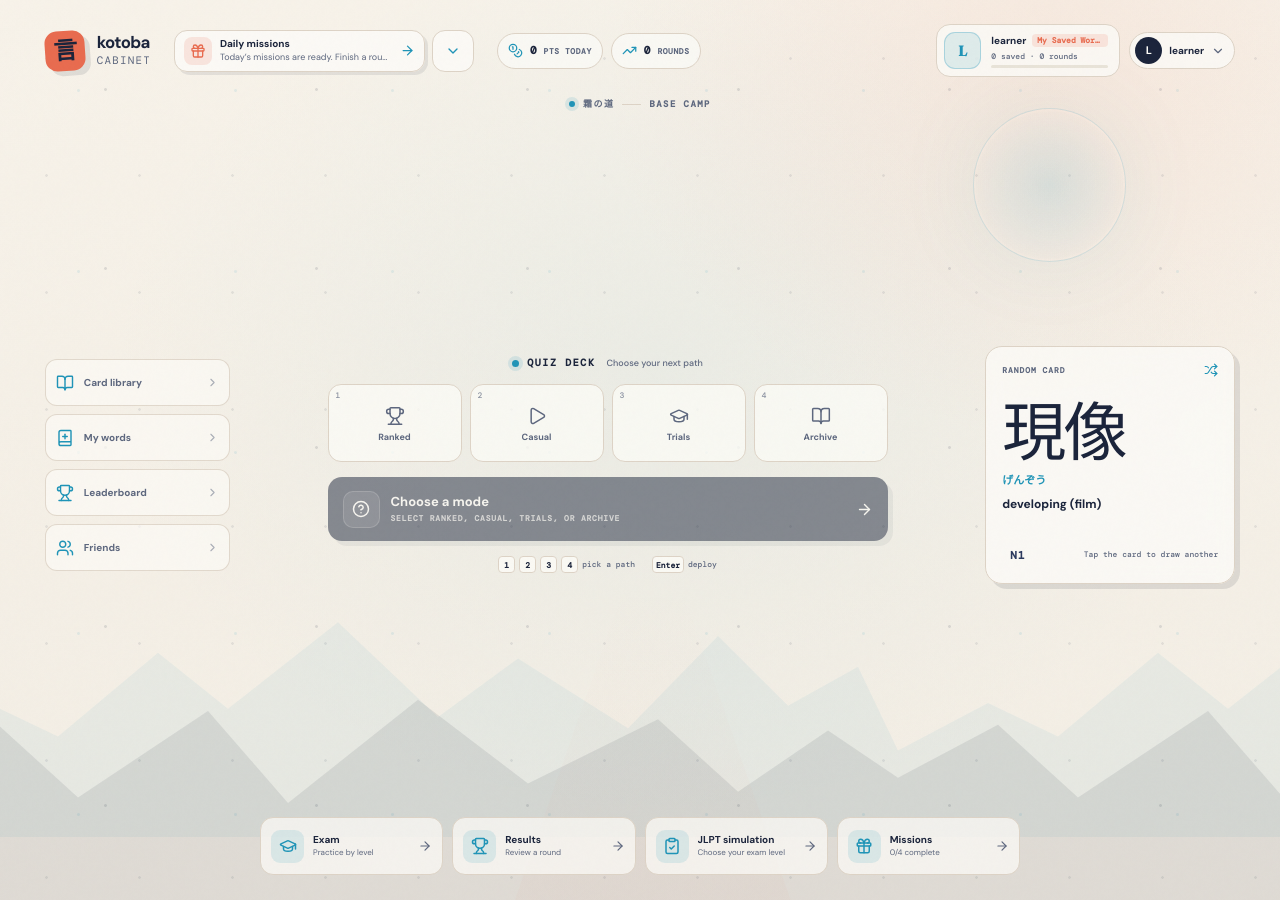
it: Winter Archive lobby › opens the shared menu from the header without a desktop-hidden wrapper and reaches My words
Click the button with test id "button-home-menu" at (65, 51), box x1=44 y1=29 x2=86 y2=72
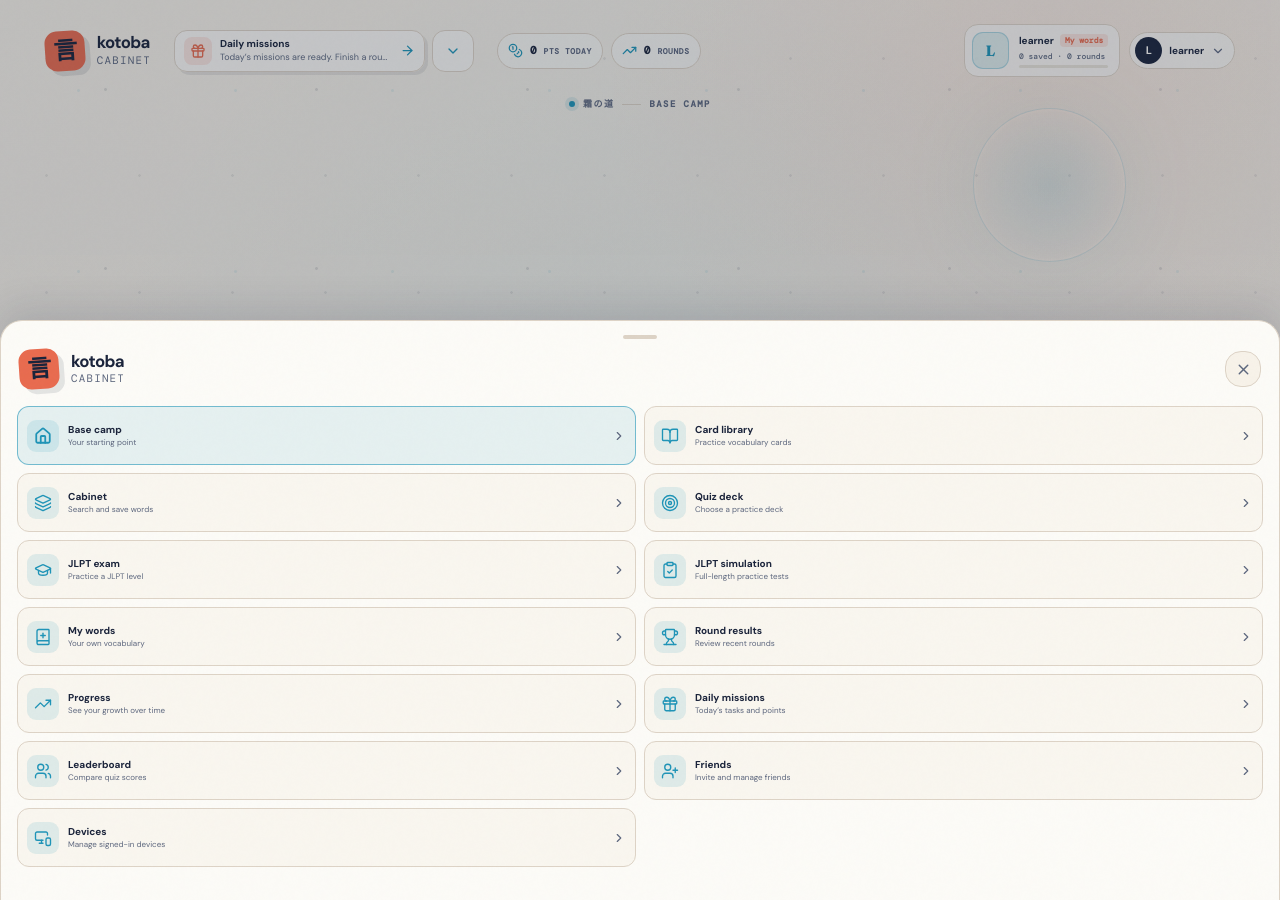
Check: the button with test id "button-home-menu" is expanded, box x1=44 y1=29 x2=86 y2=72
Check: the navigation bar named "App navigation" is shown, box x1=17 y1=406 x2=1263 y2=867
Click the link with test id "mobile-nav-my-words" at (43, 636), box x1=17 y1=607 x2=636 y2=666
(page scrolled)
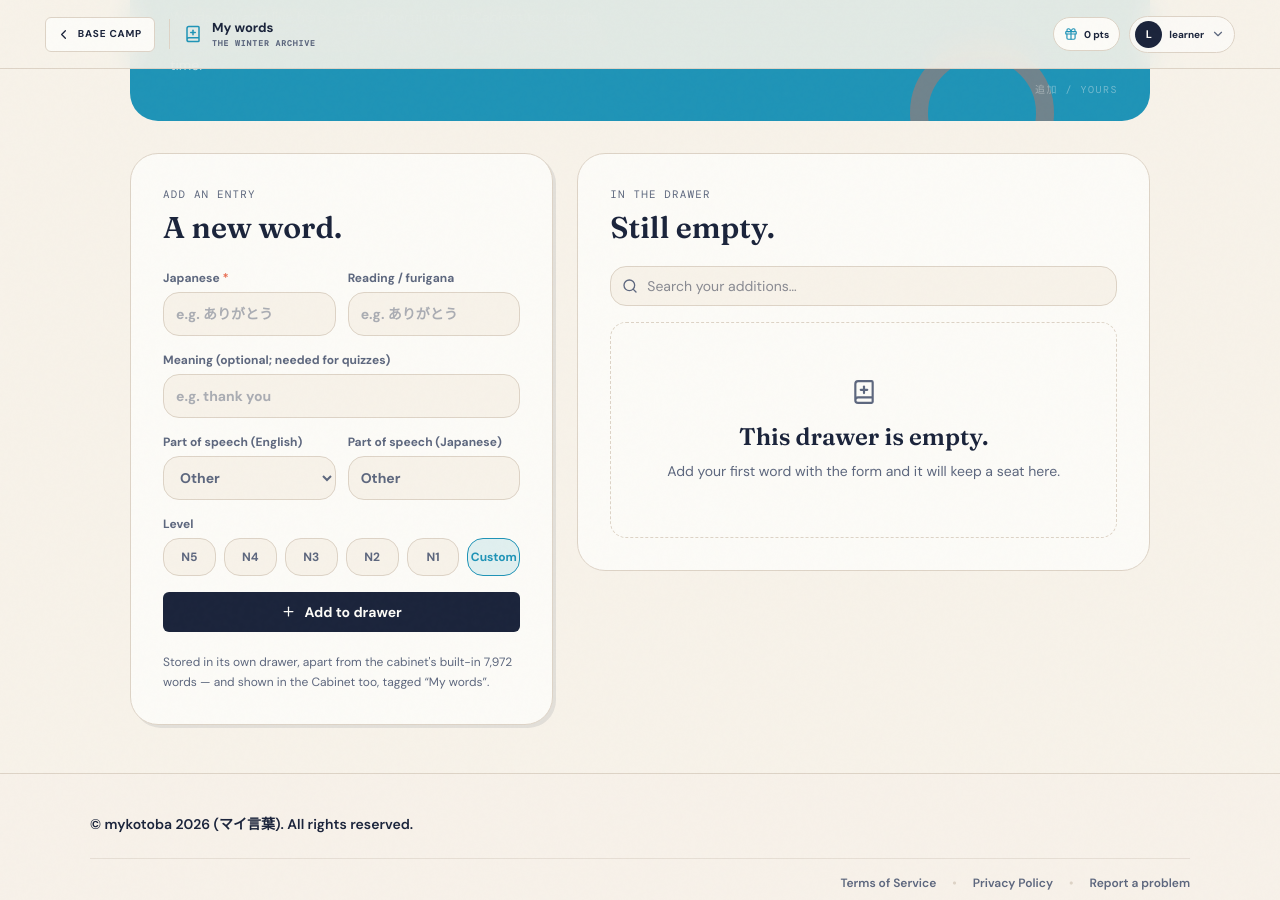
Check: the form with test id "add-form" is shown, box x1=163 y1=270 x2=520 y2=632
